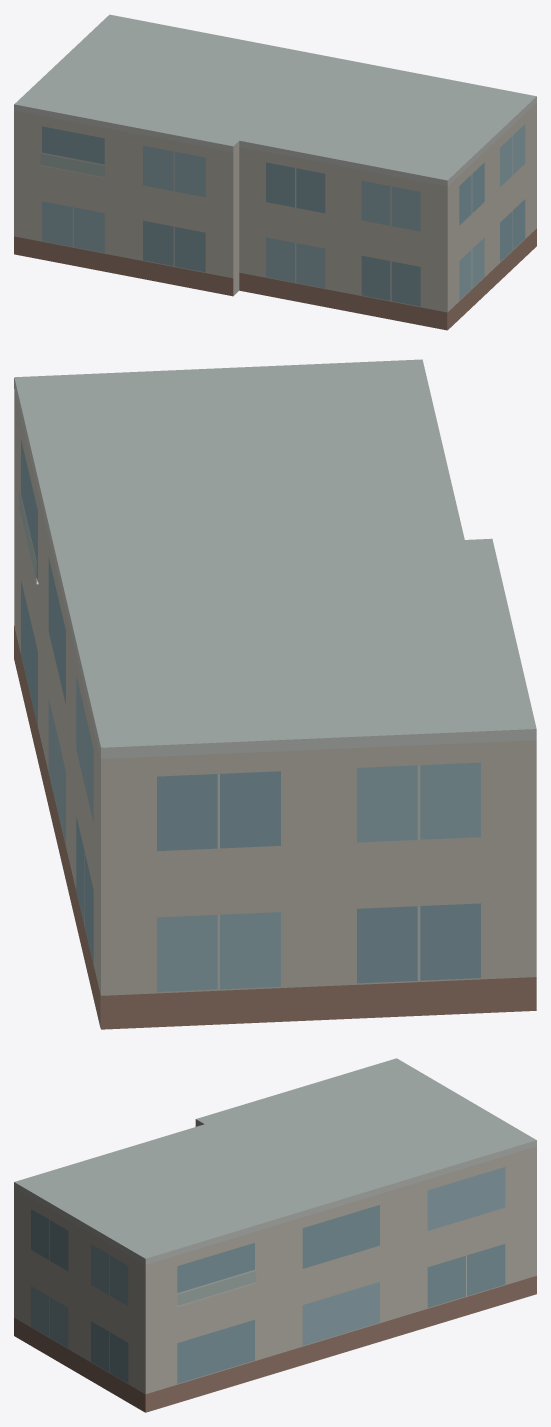
Rendered from survey-upis-32799806.glb.
3 views of the same model, one above another, from view 1: azimuth 30°, elevation 25°; view 2: azimuth 150°, elevation 25°; view 3: azimuth 270°, elevation 25° (orthographic). The views are drawn at different scales.
Parts seen in each view (by area): view 1: survey-upis-32799806.tmp; view 2: survey-upis-32799806.tmp; view 3: survey-upis-32799806.tmp.
Part boxes in pixels (left/top/right/bottom): survey-upis-32799806.tmp: left=14, top=14, right=536, bottom=330; survey-upis-32799806.tmp: left=14, top=359, right=536, bottom=1029; survey-upis-32799806.tmp: left=14, top=1058, right=536, bottom=1412.
Size of the model in its own units: 17.06 by 6.1 by 18.78.
